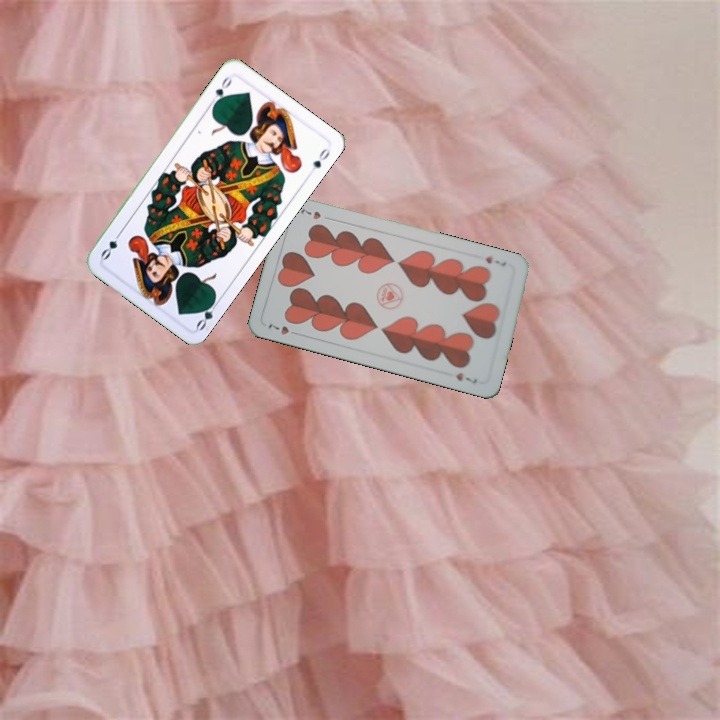GO: (192, 295, 222, 333), (206, 72, 235, 109)
H7: (264, 318, 302, 338), (482, 252, 509, 269)
